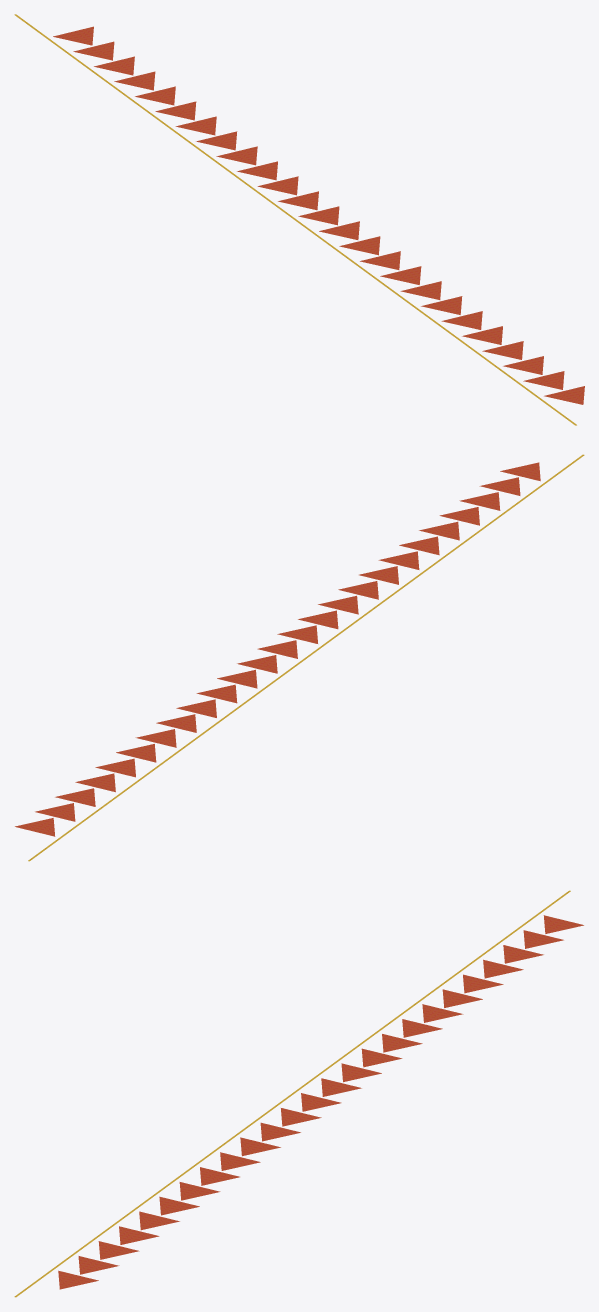
File: lot_road_paint.glb
3 renders of one model, top to bottom at view 1: azimuth 30°, elevation 25°; view 2: azimuth 150°, elevation 25°; view 3: azimuth 330°, elevation 25°, orthographic.
Visible parts, largest first — view 1: lot_road_paint; view 2: lot_road_paint; view 3: lot_road_paint.
Boxes of the visible parts, left/top/right/bottom form: lot_road_paint: left=14, top=14, right=584, bottom=425; lot_road_paint: left=15, top=454, right=584, bottom=861; lot_road_paint: left=14, top=890, right=583, bottom=1297.
Size of the model in its own units: 3.45 by 0 by 70.
Materials: 2 (2 with a texture image).
